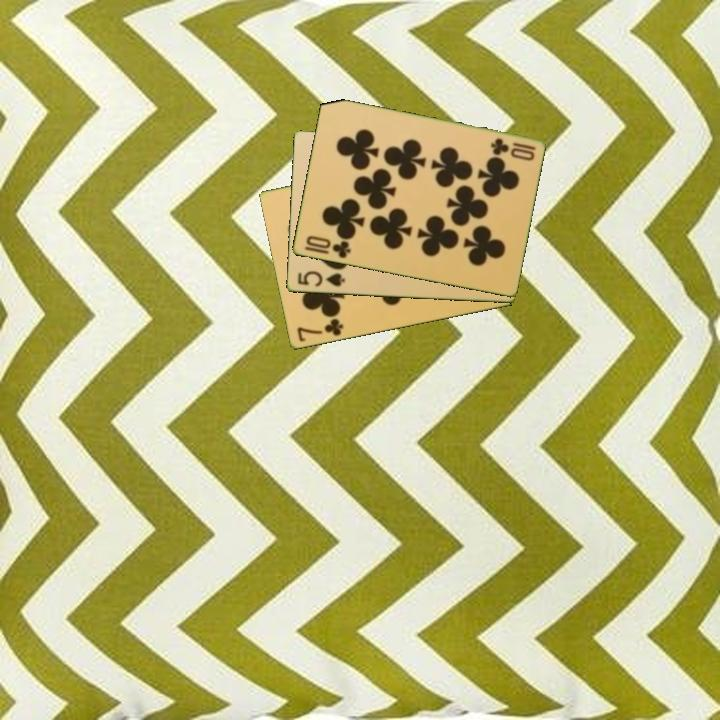10c: (302, 232, 353, 261), (487, 135, 538, 157)
5s: (294, 268, 348, 290)
7c: (293, 315, 346, 345)
